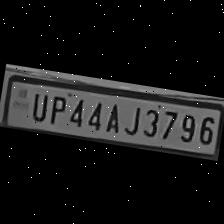3: (138, 102, 162, 138)
4: (82, 93, 106, 129), (64, 92, 88, 127)
6: (194, 110, 218, 146)
7: (156, 106, 180, 140)
9: (175, 109, 199, 143)
A: (100, 96, 124, 134)
J: (119, 99, 144, 136)
P: (44, 89, 68, 125)
U: (26, 87, 51, 122)
